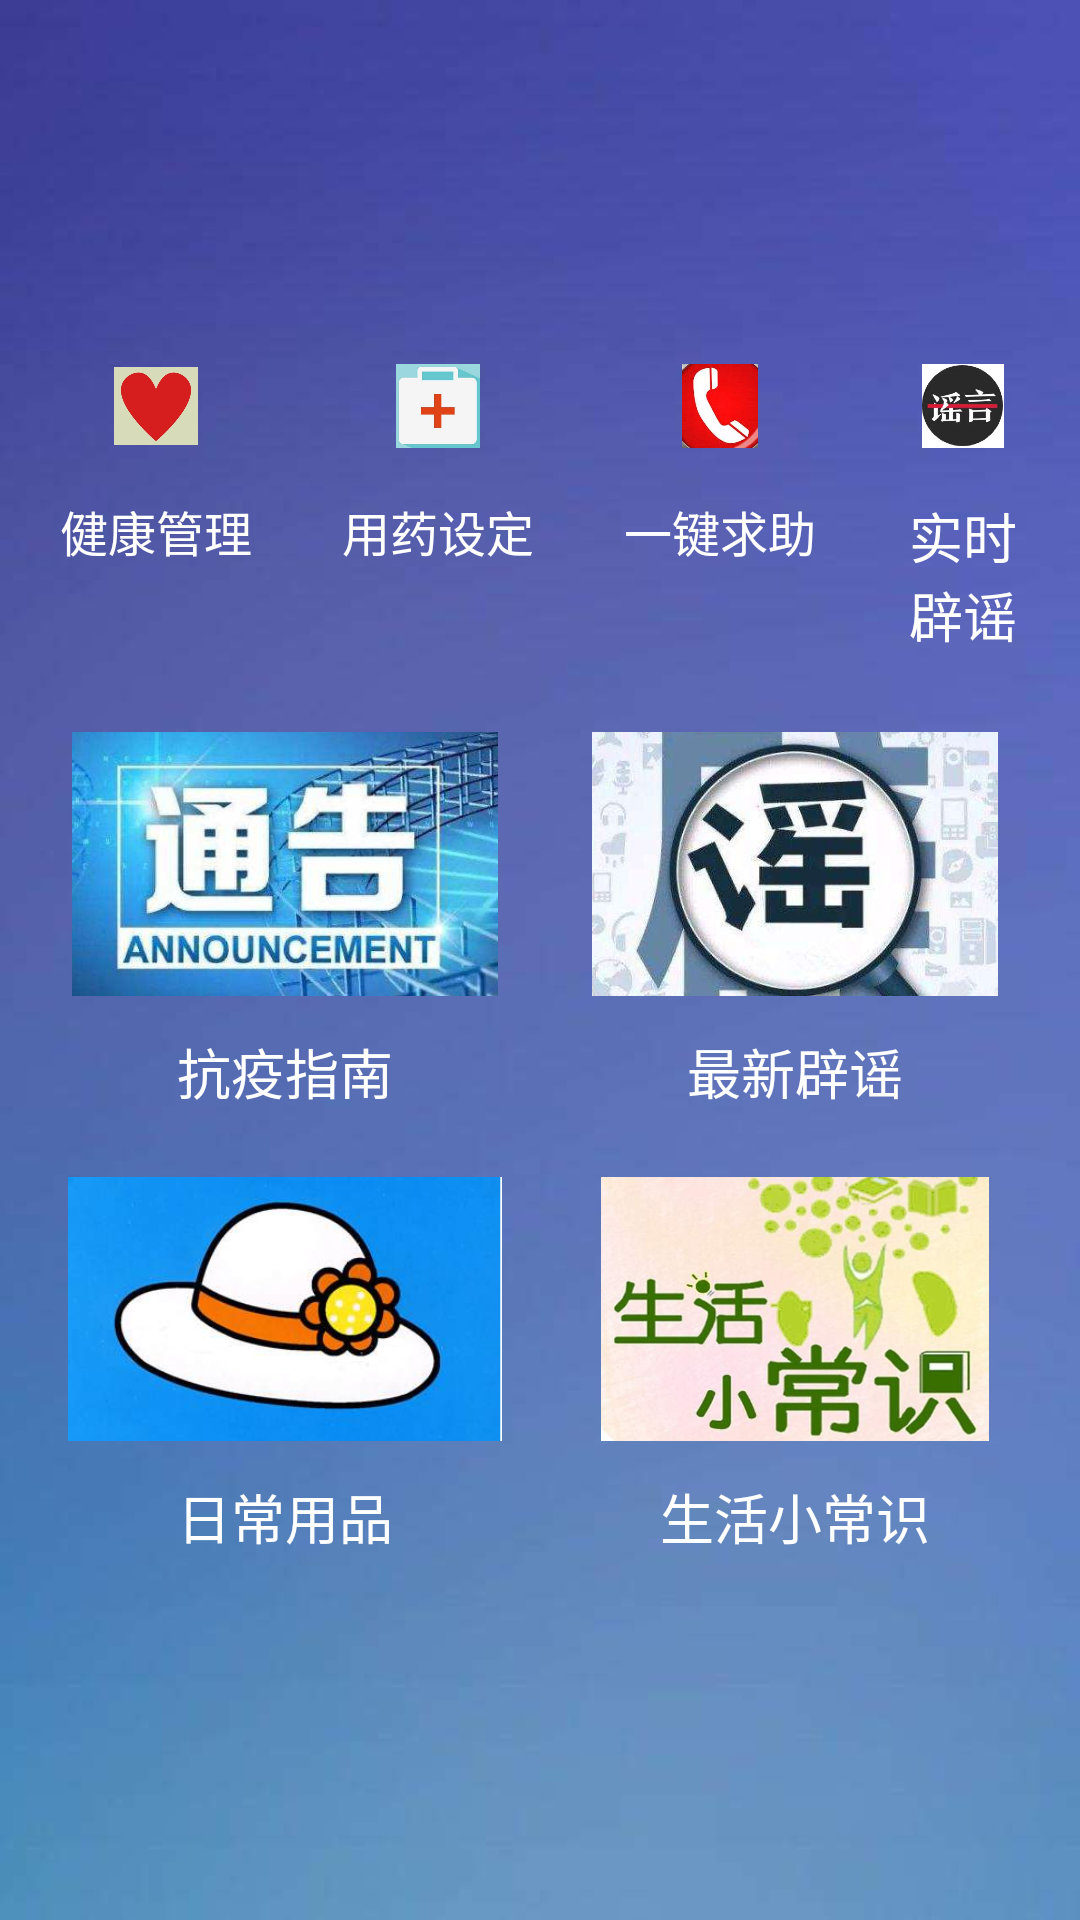

Named icons in this screenshot (1080px x 1920px) and their bounding boxes, region(x1, y1, x2, y2):
callhelp: region(682, 364, 758, 448)
health: region(114, 367, 198, 445)
med: region(396, 364, 480, 448)
